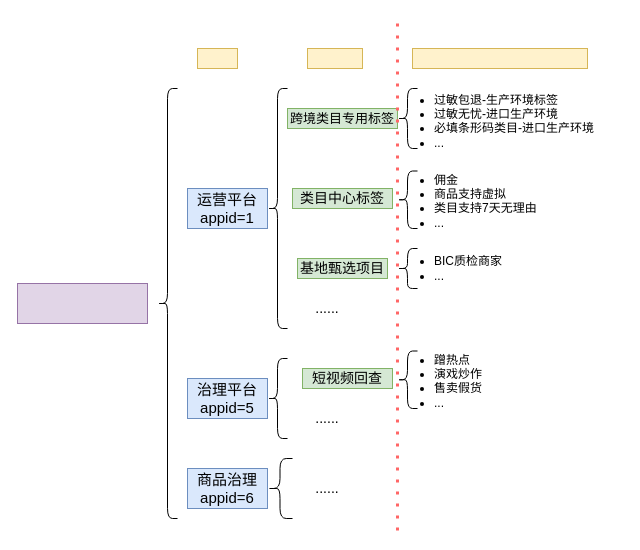
Some shapes in this 640 by 550 pixel diagram are drawn without their labels. The centre of each missing label's shape, as x and y in pixels:
"应用" goes at (x=217, y=58).
"标签树中选择标签归纳成组" goes at (x=500, y=58).
"标签组" goes at (x=334, y=58).
"标签组页面" goes at (x=82, y=303).
